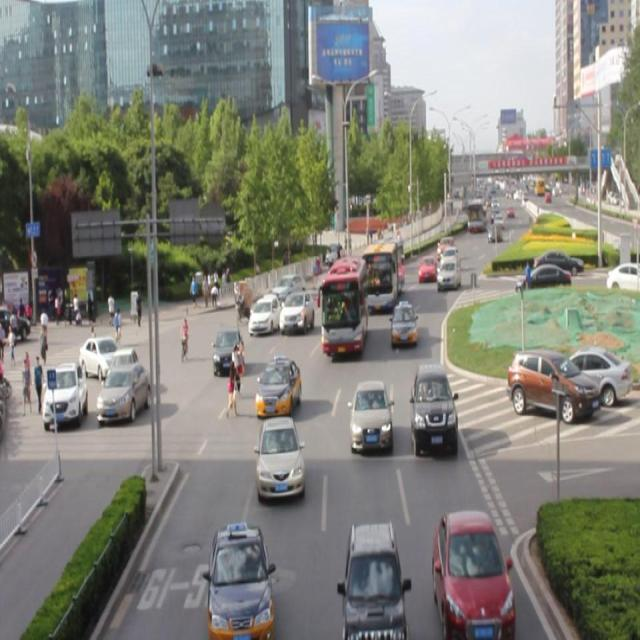car: (434, 510, 511, 633), (209, 521, 272, 640), (344, 518, 400, 640), (411, 362, 457, 449), (256, 417, 302, 500), (351, 379, 392, 452), (255, 358, 300, 416), (280, 286, 315, 336), (213, 325, 247, 373), (249, 293, 282, 334), (391, 301, 416, 345), (436, 254, 459, 288), (416, 254, 435, 283)
van: (321, 257, 364, 352), (363, 236, 401, 309)
